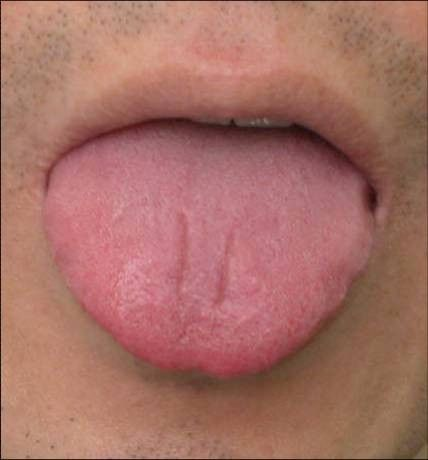chihenshe: (171, 212, 234, 308)
zishe: (44, 119, 375, 377)
